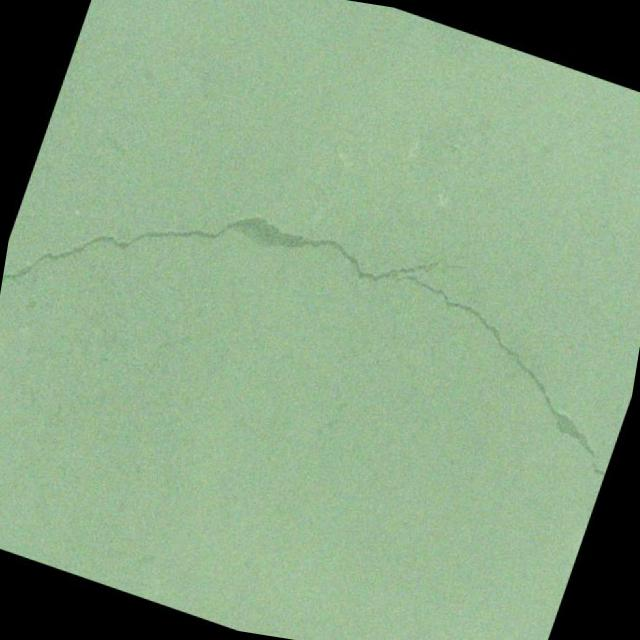crack: (0, 117, 640, 488)
